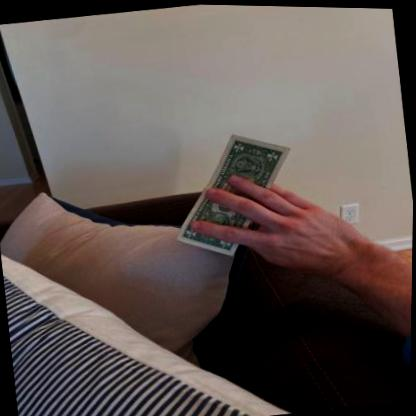one-back: (175, 133, 293, 257)
